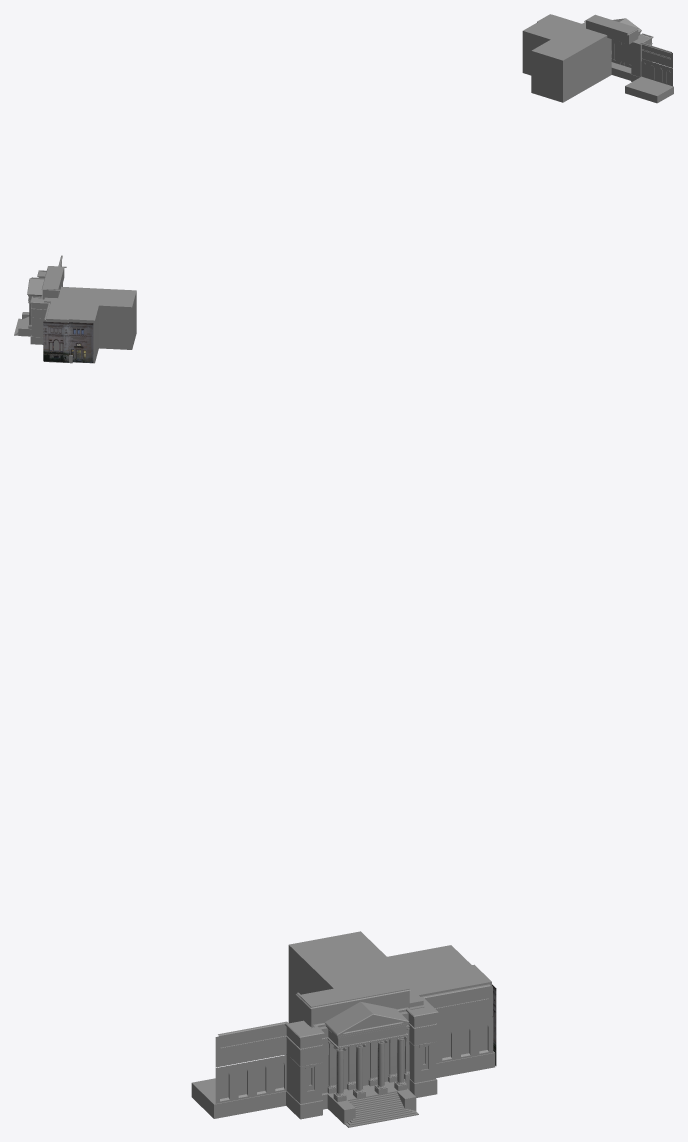
Rendered from Haus_der_Jugend_WIP.FBX.
The picture shows the model from 3 angles, top to bottom: view 1: azimuth 30°, elevation 25°; view 2: azimuth 150°, elevation 25°; view 3: azimuth 270°, elevation 25°; orthographic projection. The views are drawn at different scales.
Visible parts, largest first — view 1: Line032, ChamferBox020, ChamferBox026, ChamferBox021, Box021, Box019, ChamferBox022; view 2: Line032, Plane003, ChamferBox020, ChamferBox022; view 3: Line032, ChamferBox022, Box019, Circle002, ChamferBox026, ChamferBox020, ChamferBox021, Line031, Line025, ChamferBox023, StraightStair002, Box021.
Part boxes in pixels (<box>): Line032: <box>522,14,611,102</box>; ChamferBox020: <box>586,15,638,44</box>; ChamferBox026: <box>625,77,673,103</box>; ChamferBox021: <box>611,39,631,67</box>; Box021: <box>641,61,671,85</box>; Box019: <box>640,43,672,67</box>; ChamferBox022: <box>631,35,651,77</box>; Line032: <box>44,286,136,363</box>; Plane003: <box>43,321,93,362</box>; ChamferBox020: <box>42,266,64,299</box>; ChamferBox022: <box>31,272,50,337</box>; Line032: <box>288,931,491,1027</box>; ChamferBox022: <box>285,1003,435,1103</box>; Box019: <box>215,986,492,1067</box>; Circle002: <box>215,1017,493,1103</box>; ChamferBox026: <box>191,1051,495,1118</box>; ChamferBox020: <box>299,977,409,1027</box>; ChamferBox021: <box>319,1011,408,1093</box>; Line031: <box>218,984,490,1039</box>; Line025: <box>324,1001,408,1036</box>; ChamferBox023: <box>286,1079,437,1119</box>; StraightStair002: <box>347,1090,404,1118</box>; Box021: <box>220,1061,283,1098</box>.
Bounding box in the file's own units: 23835 × 1802 × 4915.
3 materials, 1 textured.
